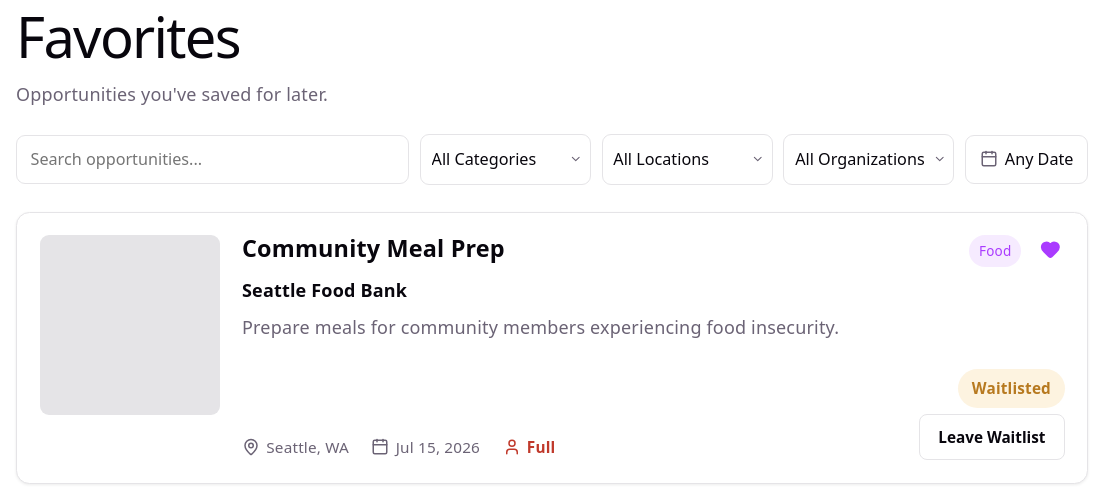
FavoritesPage › leaves the waitlist when Leave Waitlist is clicked, staying on Join Waitlist while still full
The width and height of the screenshot is (1105, 502).
Click the button "Leave Waitlist".
click(992, 437)  # box [919, 414, 1065, 460]
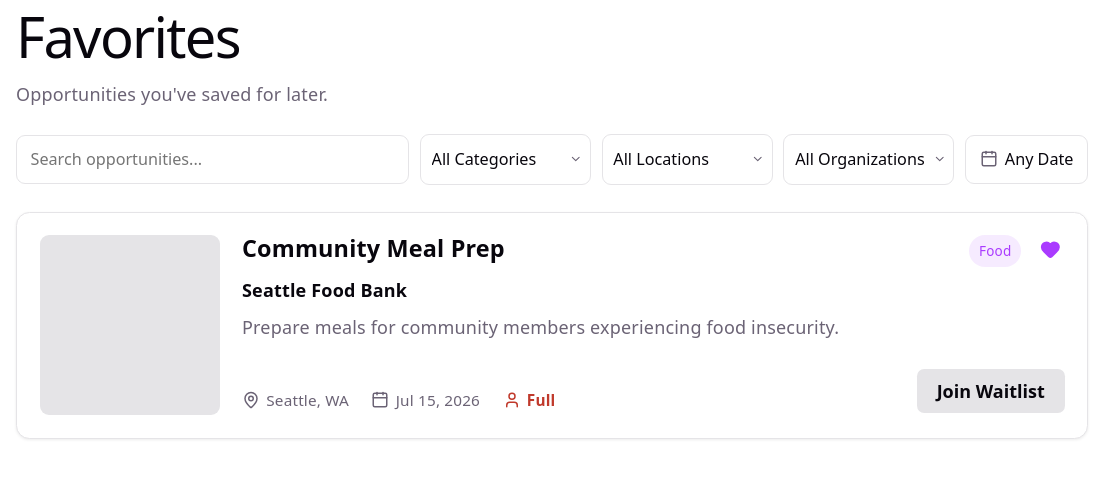
expect the button "Join Waitlist" is shown: met, box [917, 369, 1064, 413]
